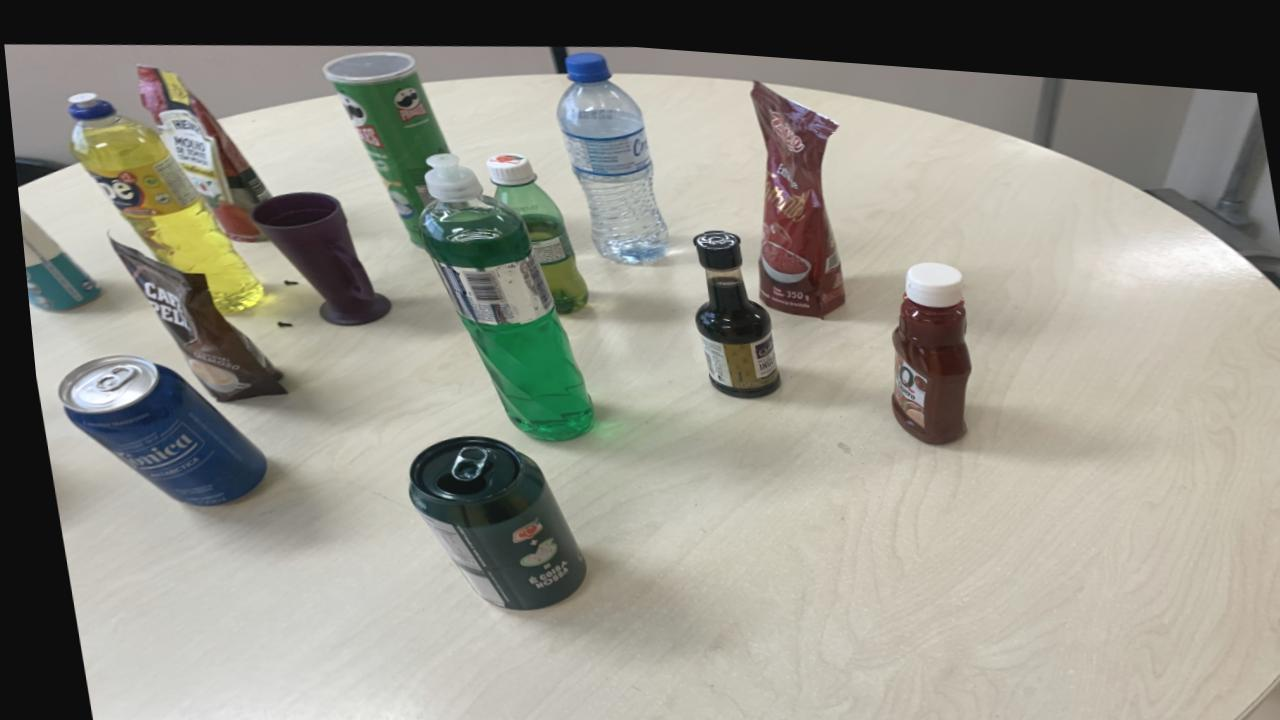Cleaner-Cleanup_Items: (15, 205, 95, 310)
Coffee-Pantry_Items: (105, 236, 278, 399)
Detergent-Cleanup_Items: (414, 146, 587, 433), (66, 92, 257, 310)
English_Sauce-Pantry_Items: (689, 220, 774, 385)
Guarana-Drinks: (483, 145, 584, 305)
Guarana_Can-Drinks: (399, 430, 575, 602)
Ketchup-Pantry_Items: (884, 247, 965, 430)
Pringles-Snacks: (321, 45, 447, 240)
Tomato_Sauce-Pantry_Items: (135, 63, 267, 239), (750, 71, 840, 305)
Tonic-Drinks: (50, 353, 257, 503)
Water_Bottle-Drinks: (555, 44, 665, 253)
